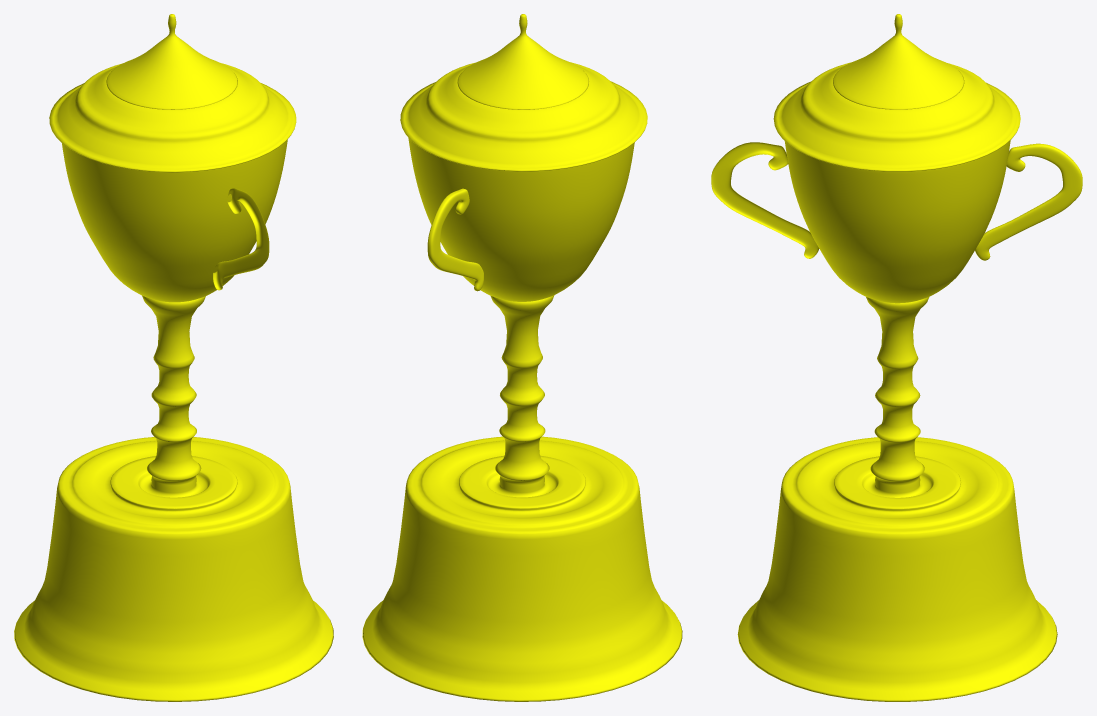
Rendered from asset.gltf.
The picture shows the model from 3 angles, left to right: view 1: azimuth 30°, elevation 25°; view 2: azimuth 150°, elevation 25°; view 3: azimuth 270°, elevation 25°; orthographic projection.
Parts seen in each view (by area): view 1: Sphere.001, Sphere.002; view 2: Sphere.001, Sphere.002; view 3: Sphere.001, Sphere.002.
Part boxes in pixels (box(x1,y1,x2,y2)): Sphere.001: box(14, 139, 333, 701); Sphere.002: box(49, 14, 296, 172); Sphere.001: box(362, 138, 682, 701); Sphere.002: box(400, 14, 647, 171); Sphere.001: box(711, 140, 1082, 701); Sphere.002: box(773, 14, 1020, 171).
Bounding box in the file's own units: 19.08 × 40.85 × 22.2.
11 materials, 11 textured.
